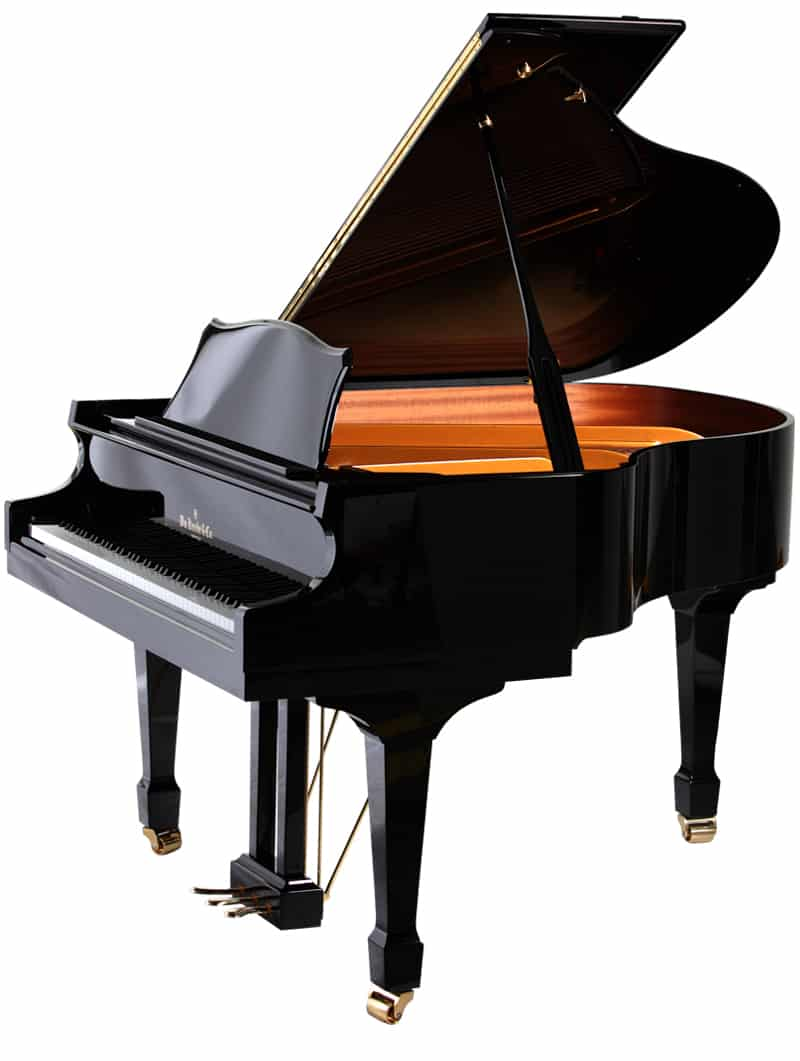GrandPiano: (1, 42, 785, 755)
